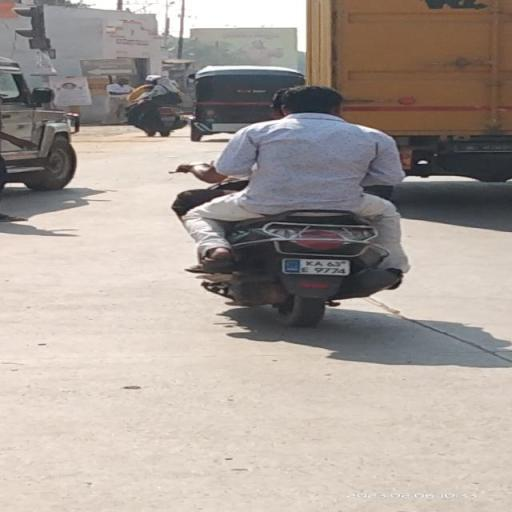bike: (165, 82, 429, 331)
numberplate: (278, 256, 352, 276)
withouthelmet: (284, 86, 340, 114)
